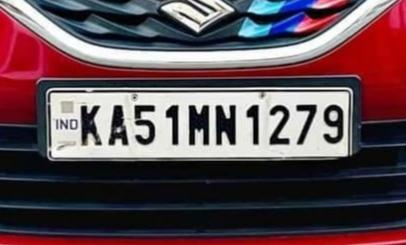1: (162, 101, 184, 149), (242, 102, 263, 148)
2: (265, 101, 292, 147)
5: (130, 102, 163, 148)
7: (295, 102, 319, 147)
9: (322, 103, 347, 147)
A: (108, 101, 131, 149)
K: (76, 101, 104, 148)
M: (186, 101, 213, 148)
N: (214, 101, 238, 148)
